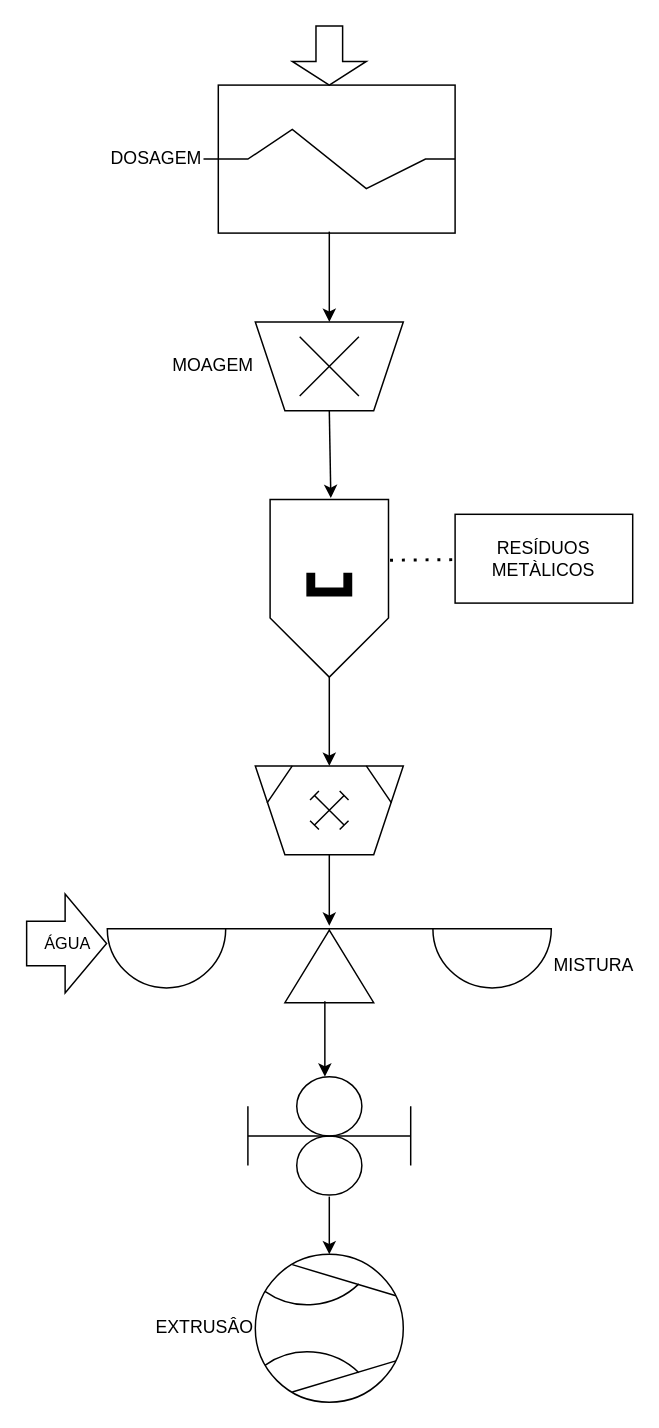
The diagram is 659 pixels wide and 1428 high, and some of its shapes have lost their labels. Here are the shapes that lost their labels. From the top down, the centre of each, then its label:
the point at 328,587: SEPARAÇÃO
the point at 328,809: DESINTEGRAÇÃO
the point at 328,1135: LAMINAÇÃO
